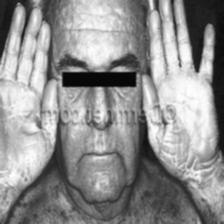Non-Cancerous Skin Condition: (5, 179, 65, 224)
